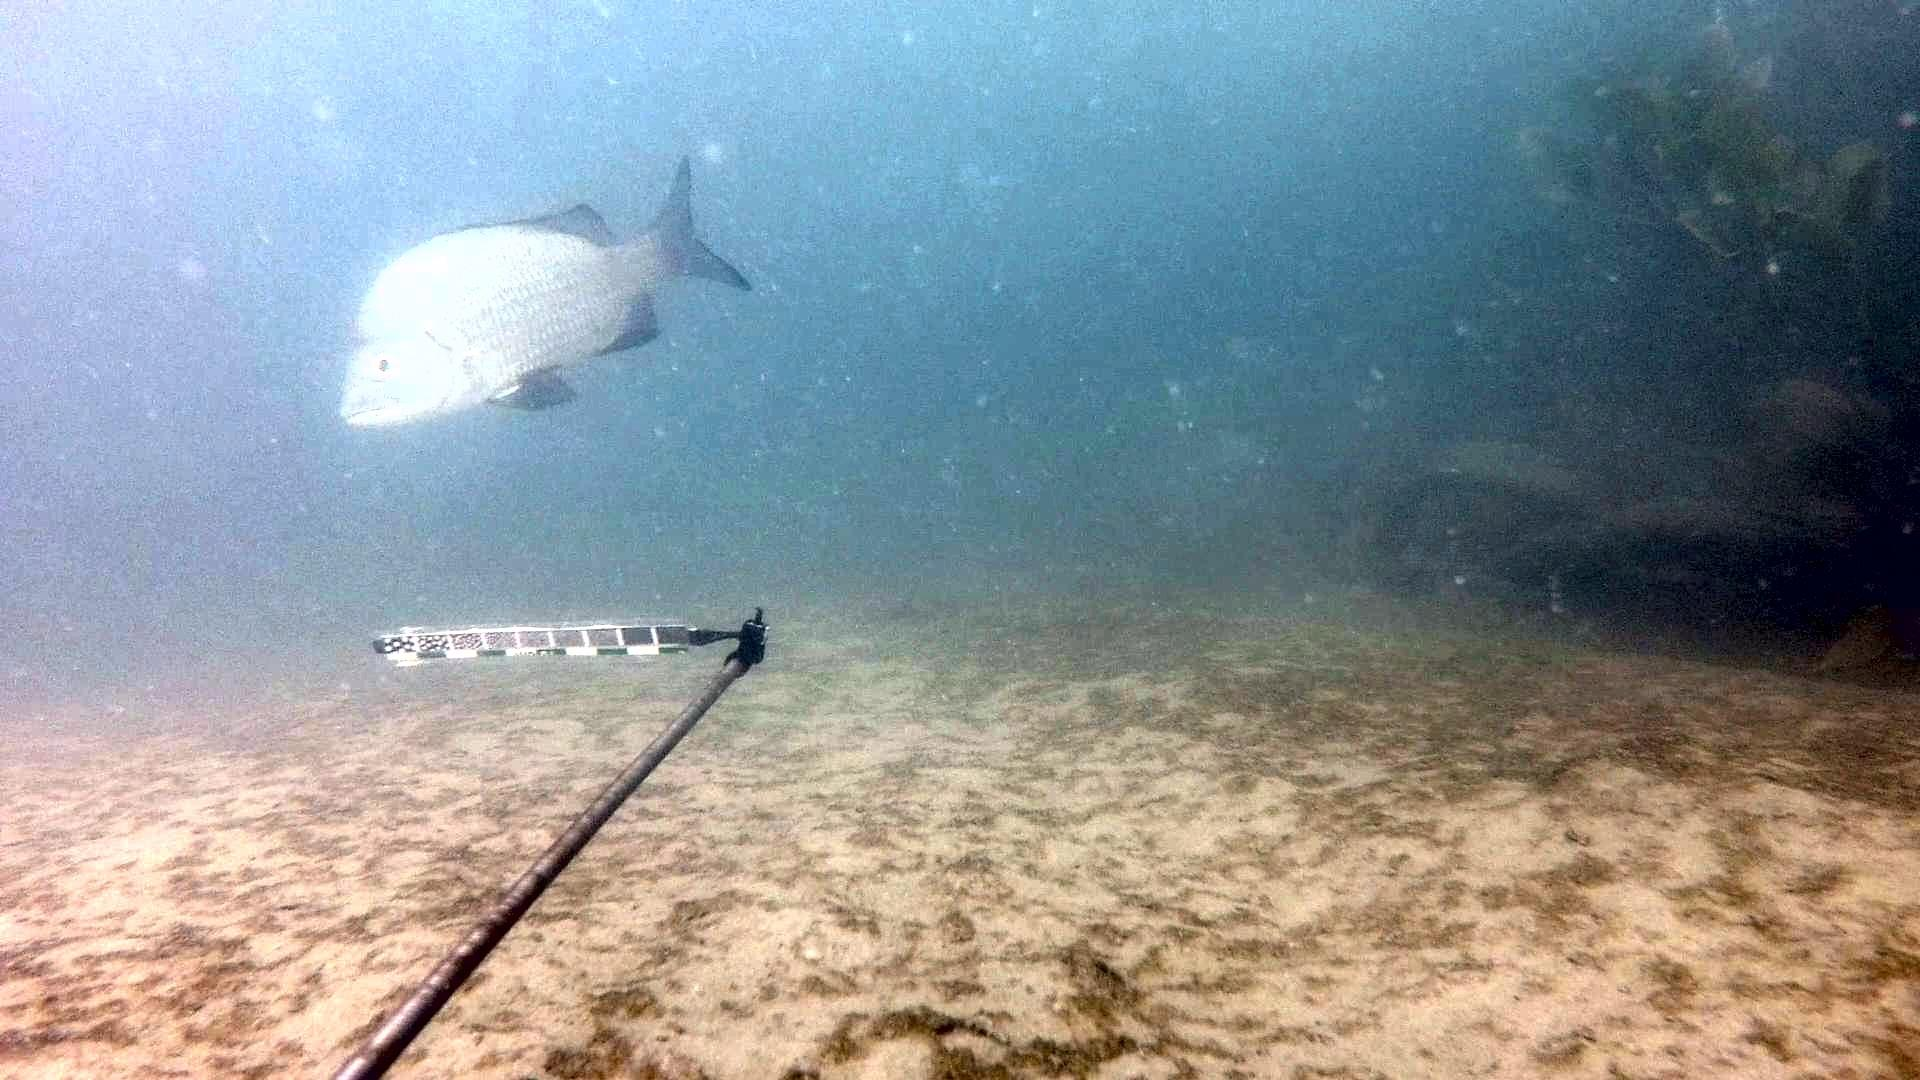acanthopagrus palmaris: (328, 150, 767, 446)
